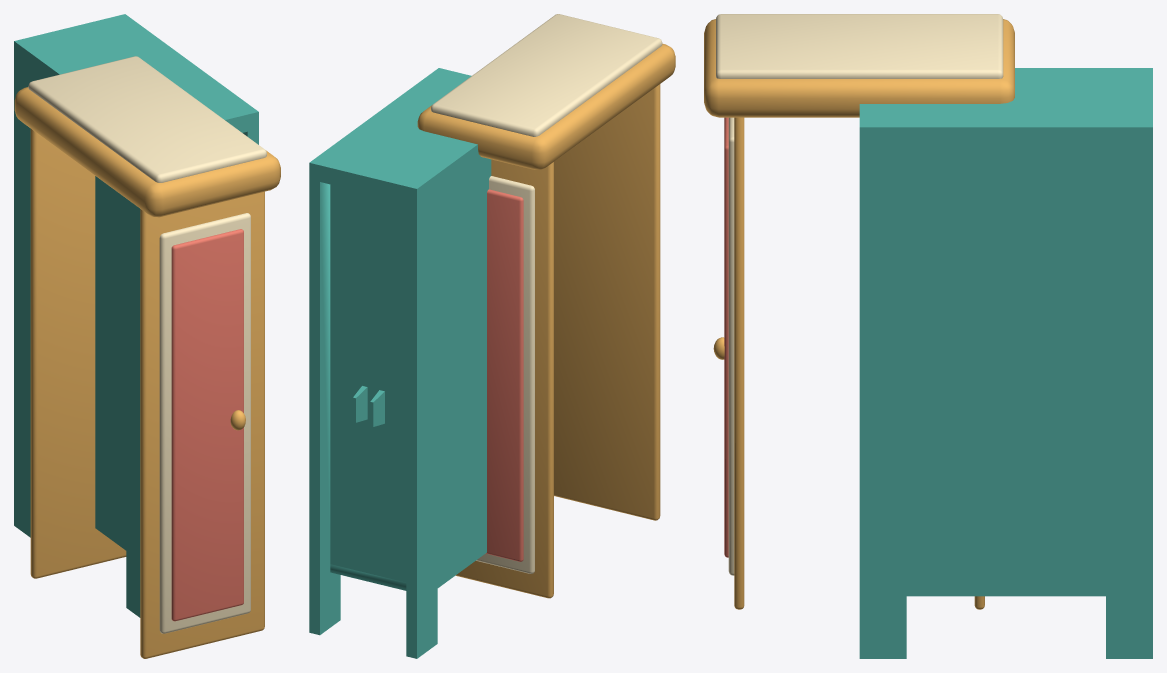
File: hotelWardrobe.glb
The picture shows the model from 3 angles, left to right: view 1: azimuth 30°, elevation 25°; view 2: azimuth 150°, elevation 25°; view 3: azimuth 270°, elevation 25°; orthographic projection. The views are drawn at different scales.
Visible parts, largest first — view 1: hotelWardrobe Bellmare armoire brass details, hotelWardrobe Kenney CC0 wood recolored Bellmare, hotelWardrobe Bellmare armoire coral, hotelWardrobe Bellmare armoire enamel; view 2: hotelWardrobe Kenney CC0 wood recolored Bellmare, hotelWardrobe Bellmare armoire brass details, hotelWardrobe Bellmare armoire enamel, hotelWardrobe Bellmare armoire coral; view 3: hotelWardrobe Kenney CC0 wood recolored Bellmare, hotelWardrobe Bellmare armoire enamel, hotelWardrobe Bellmare armoire brass details, hotelWardrobe Bellmare armoire coral.
Boxes of the visible parts, x1,y1,x2,y2 form: hotelWardrobe Bellmare armoire brass details: (14,87,280,658); hotelWardrobe Kenney CC0 wood recolored Bellmare: (14,14,258,617); hotelWardrobe Bellmare armoire coral: (171,229,243,621); hotelWardrobe Bellmare armoire enamel: (28,56,266,633); hotelWardrobe Kenney CC0 wood recolored Bellmare: (309,68,491,658); hotelWardrobe Bellmare armoire brass details: (417,43,675,598); hotelWardrobe Bellmare armoire enamel: (431,14,662,573); hotelWardrobe Bellmare armoire coral: (486,189,523,561); hotelWardrobe Kenney CC0 wood recolored Bellmare: (859,68,1152,658); hotelWardrobe Bellmare armoire enamel: (716,14,1003,575); hotelWardrobe Bellmare armoire brass details: (704,19,1014,609); hotelWardrobe Bellmare armoire coral: (724,117,728,557).
Size of the model in its own units: 0.77 by 2.1 by 1.53.
